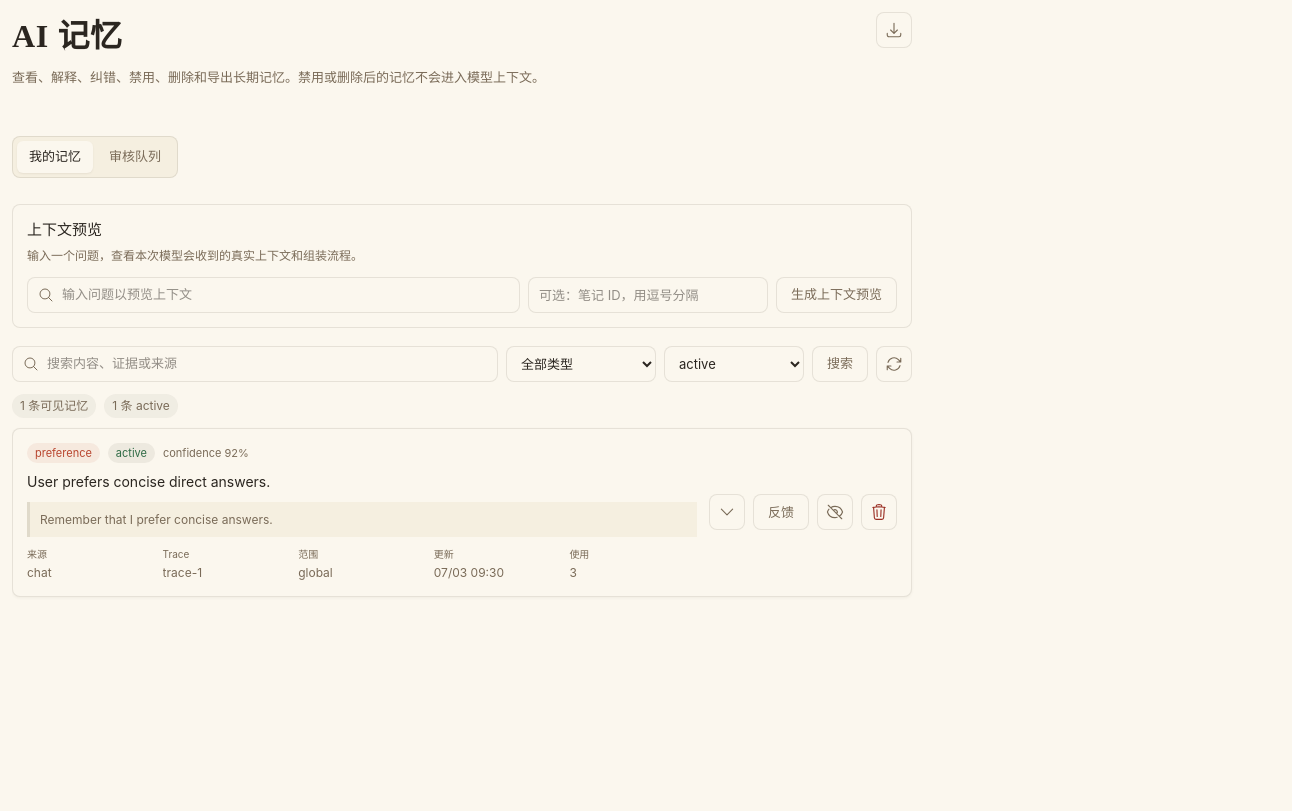
MemoryControlPanel behavior › previews the real assembled context and flow for a draft question
expect the text "trace-1" is shown: met, box top-left (163, 565), bottom-right (202, 580)
Type "Summarize this note" into the field named "上下文预览问题" at (286, 295), box top-left (62, 285), bottom-right (509, 304)
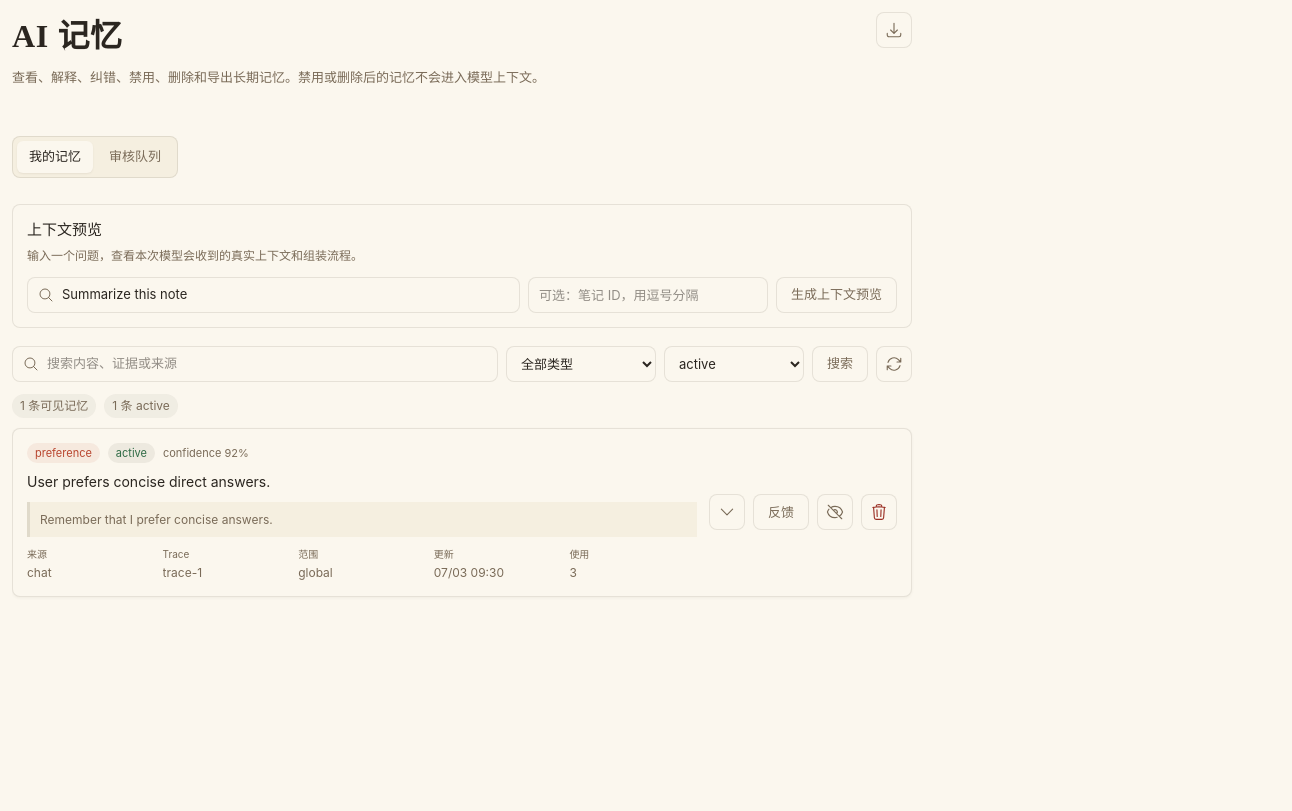
Click the button "生成上下文预览" at (836, 295), box top-left (776, 277), bottom-right (897, 313)
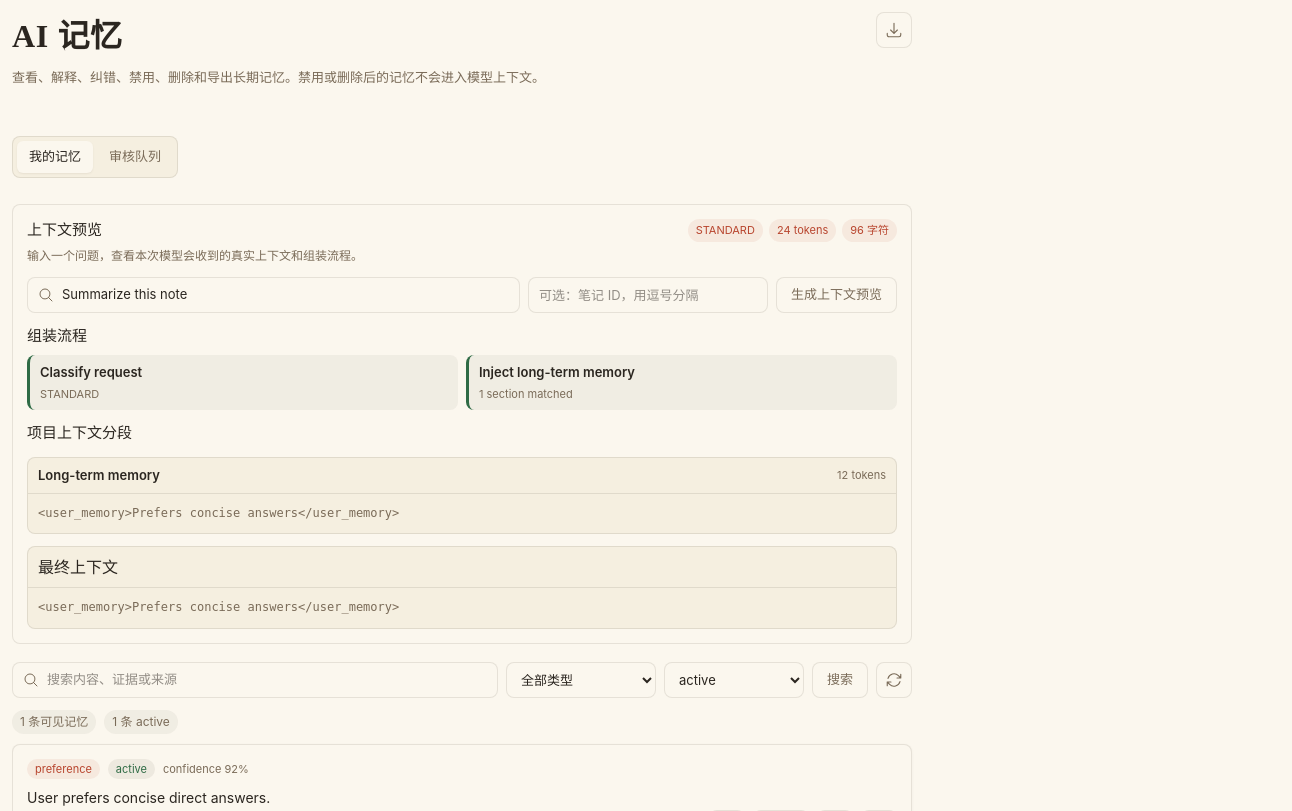
expect the heading "最终上下文" is shown: met, box top-left (38, 558), bottom-right (118, 578)
expect the text "Long-term memory" is shown: met, box top-left (38, 466), bottom-right (160, 485)
expect the text "Classify request" is shown: met, box top-left (40, 364), bottom-right (142, 380)
